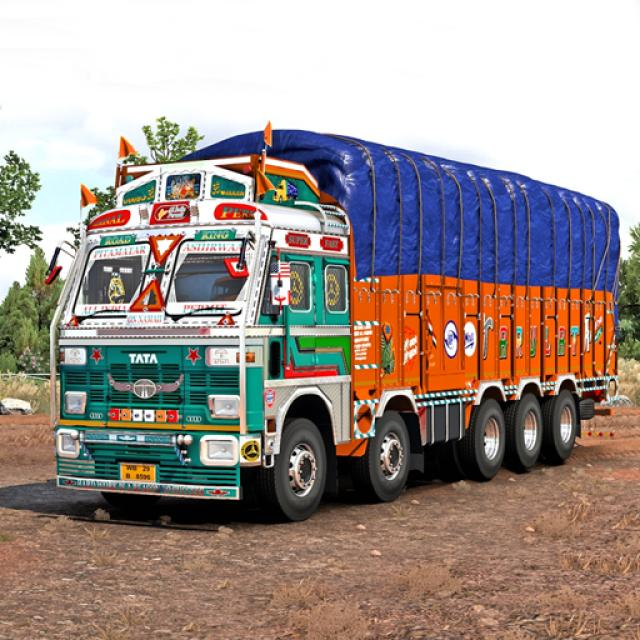truck: (50, 130, 619, 520)
